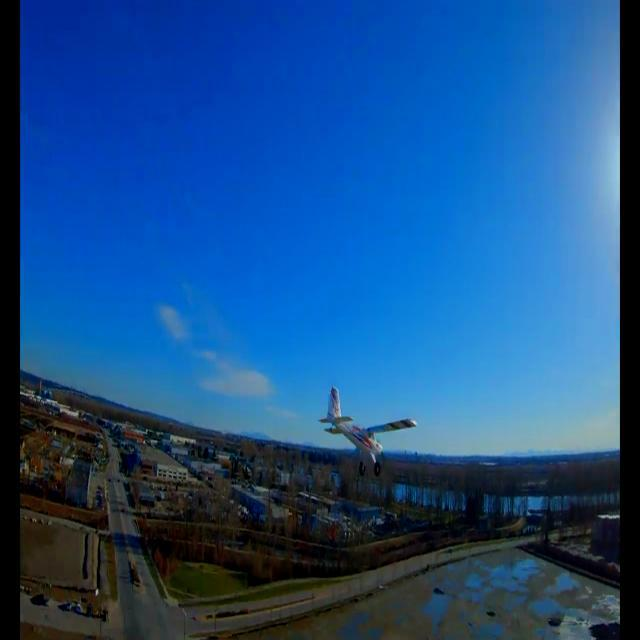iha: (347, 417, 387, 445)
